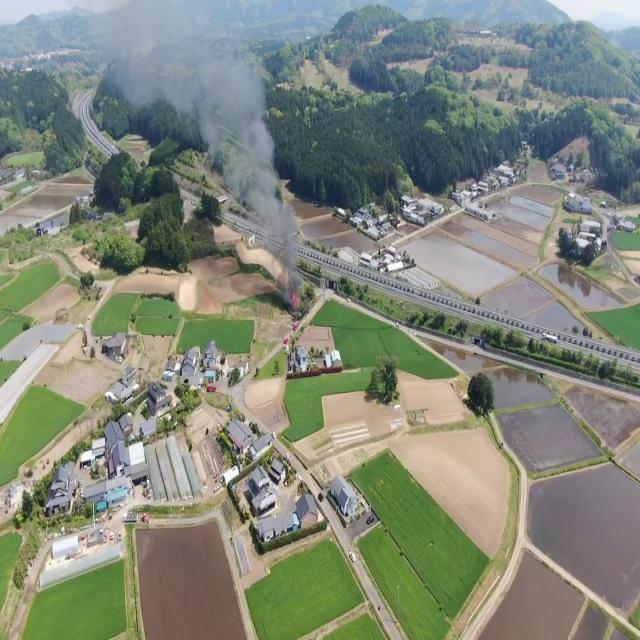Smoke: (185, 5, 304, 266)
